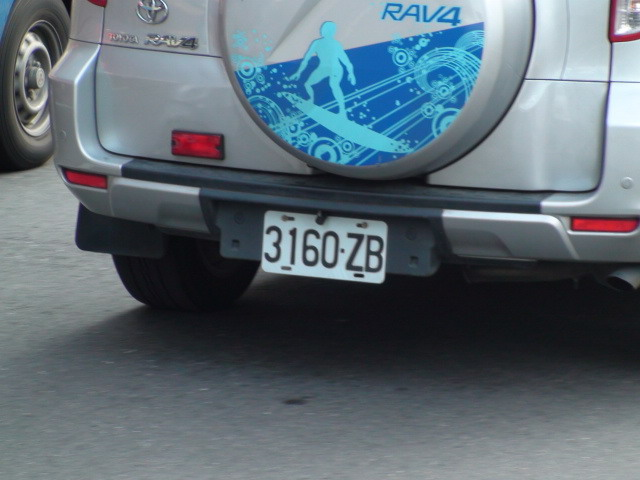plate: (261, 207, 389, 288)
